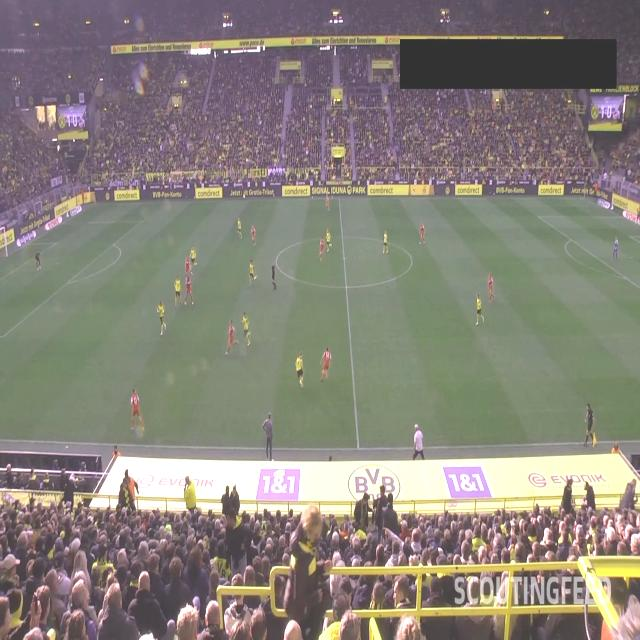f_player: (126, 384, 148, 440), (320, 343, 334, 387), (154, 298, 167, 340), (226, 316, 238, 360), (240, 310, 252, 350), (296, 346, 306, 394), (380, 227, 392, 260), (172, 276, 182, 314), (475, 294, 485, 329), (248, 256, 258, 290), (611, 233, 620, 267), (324, 228, 334, 258), (486, 270, 494, 304), (186, 274, 193, 308), (236, 214, 243, 244), (189, 246, 197, 270), (184, 256, 192, 278), (419, 222, 425, 250), (318, 236, 324, 262), (250, 225, 256, 249), (324, 192, 330, 215)
umpire: (582, 401, 596, 448), (269, 260, 278, 298)
